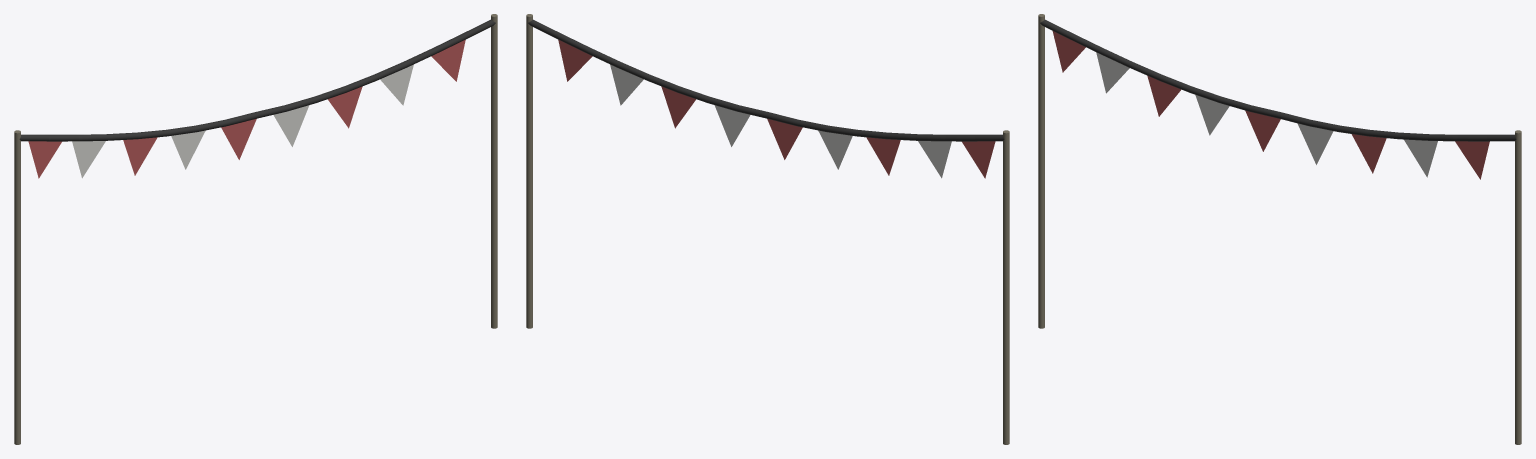
The model's file is Flags.fbx.
3 views of the same model, side by side, from view 1: azimuth 30°, elevation 25°; view 2: azimuth 150°, elevation 25°; view 3: azimuth 330°, elevation 25° (orthographic).
Visible parts, largest first — view 1: Flags; view 2: Flags; view 3: Flags.
Part boxes in pixels (left/top/right/bottom): Flags: left=14, top=14, right=497, bottom=444; Flags: left=526, top=14, right=1009, bottom=444; Flags: left=1038, top=14, right=1521, bottom=444.
Bounding box in the file's own units: 8.1 × 5 × 0.1.
